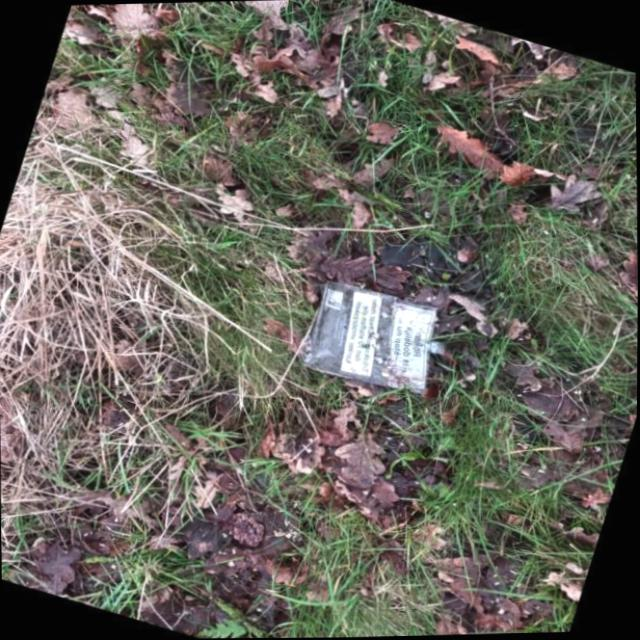Paper: (297, 275, 443, 400)
